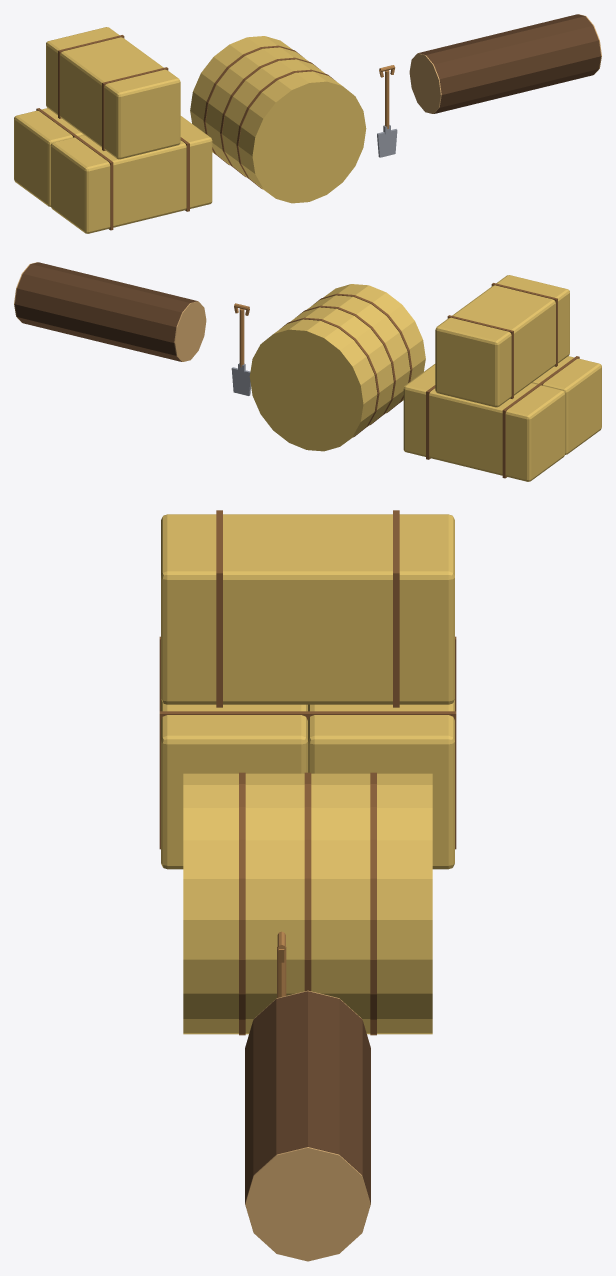
Rendered from lt2_plain.glb.
3 renders of one model, top to bottom at view 1: azimuth 30°, elevation 25°; view 2: azimuth 150°, elevation 25°; view 3: azimuth 270°, elevation 25°, orthographic. The views are drawn at different scales.
Visible parts, largest first — view 1: RoundBale, SquareBale.002, SquareBale, Log, SquareBale.001, SmallShovel; view 2: RoundBale, SquareBale.002, SquareBale.001, Log, SquareBale, SmallShovel; view 3: RoundBale, SquareBale.002, Log, SquareBale, SquareBale.001.
Part boxes in pixels (x1=…): RoundBale: x1=190, y1=36, x2=366, y2=203; SquareBale.002: x1=46, y1=27, x2=180, y2=159; SquareBale: x1=50, y1=116, x2=212, y2=233; Log: x1=409, y1=14, x2=601, y2=113; SquareBale.001: x1=14, y1=108, x2=83, y2=206; SmallShovel: x1=377, y1=65, x2=397, y2=157; RoundBale: x1=249, y1=284, x2=425, y2=451; SquareBale.002: x1=435, y1=275, x2=569, y2=407; SquareBale.001: x1=403, y1=364, x2=565, y2=481; Log: x1=14, y1=262, x2=206, y2=361; SquareBale: x1=532, y1=356, x2=601, y2=454; SmallShovel: x1=231, y1=303, x2=250, y2=395; RoundBale: x1=183, y1=772, x2=432, y2=1035; SquareBale.002: x1=161, y1=510, x2=454, y2=707; Log: x1=245, y1=990, x2=370, y2=1261; SquareBale: x1=159, y1=636, x2=308, y2=869; SquareBale.001: x1=307, y1=636, x2=456, y2=869.
Bounding box in the file's own units: 4.72 × 1.35 × 1.13.
